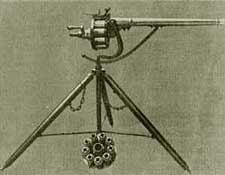rifle: (35, 10, 225, 165)
